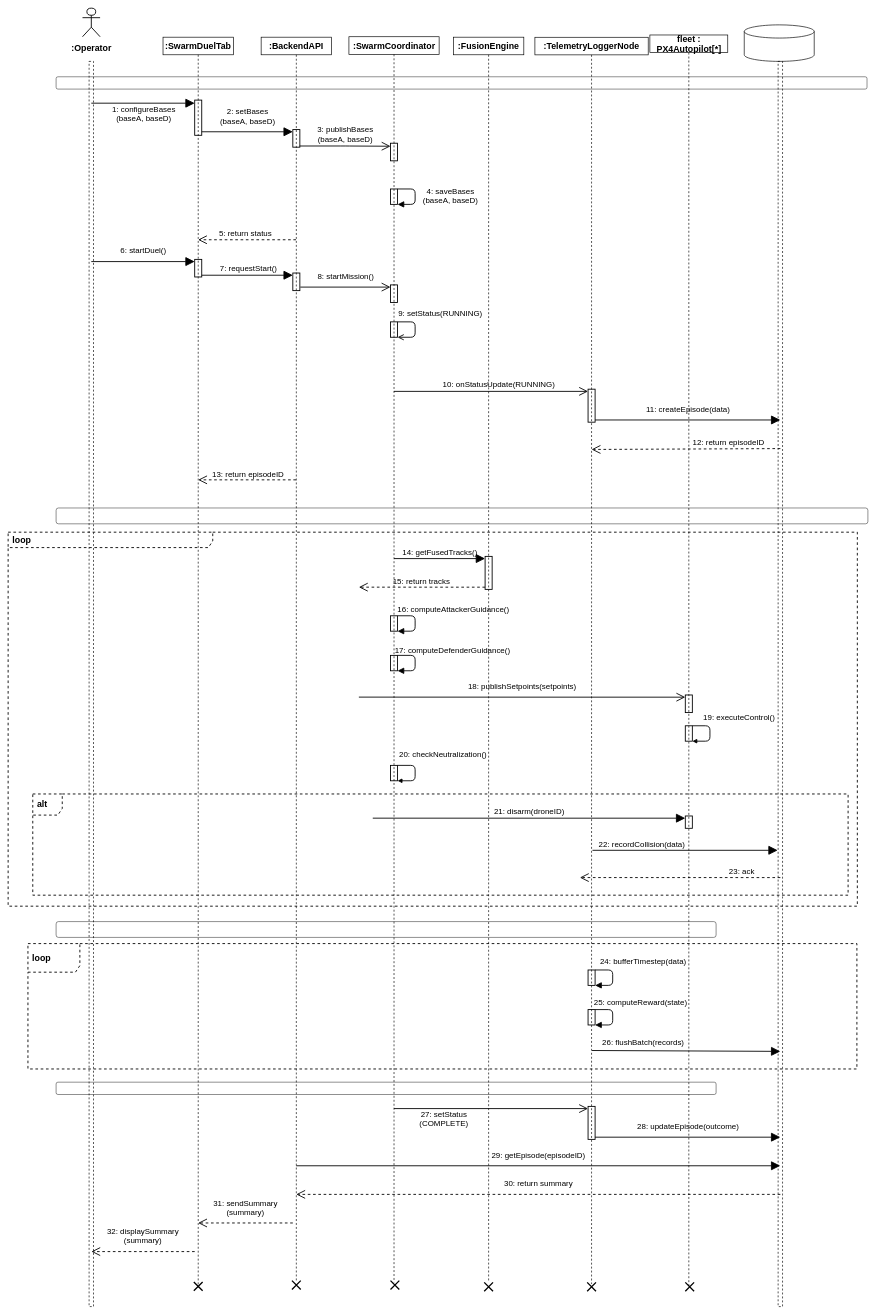
This 876x1314 diagram has some shape labels left out. Each missing label, with the centre of its shape:
":TelemetryDB" belongs at (x=779, y=43).
"Phase 1: Mission Configuration & Spawning" belongs at (x=461, y=82).
"Phase 2: Real-Time Guidance Loop" belongs at (x=462, y=516).
"Phase 3: Parallel Telemetry Logging & Reward Processing" belongs at (x=386, y=929).
"Phase 4: Mission Completion & Session Summary" belongs at (x=386, y=1088).
